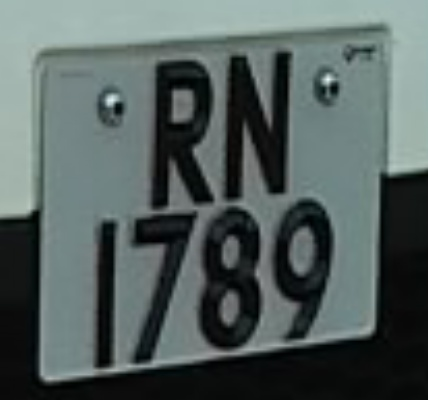1: (75, 211, 131, 375)
7: (122, 206, 199, 369)
8: (191, 203, 274, 357)
9: (262, 192, 345, 351)
N: (215, 39, 308, 206)
R: (132, 49, 222, 217)
